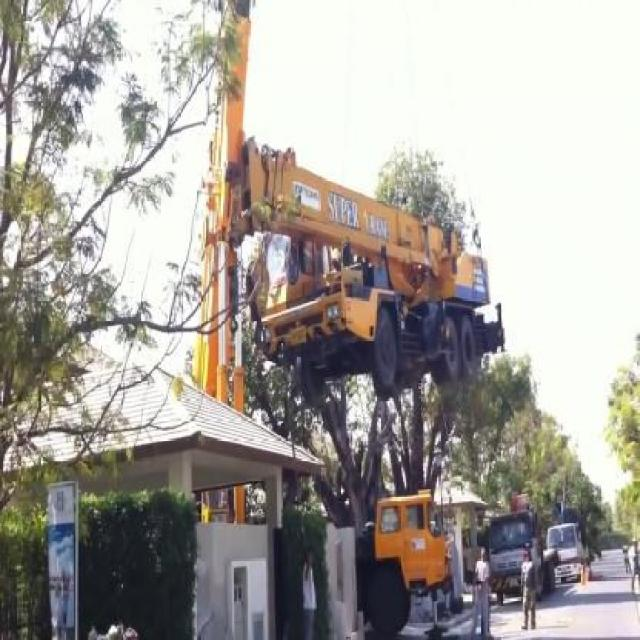Mobile Crane: (215, 132, 503, 390)
